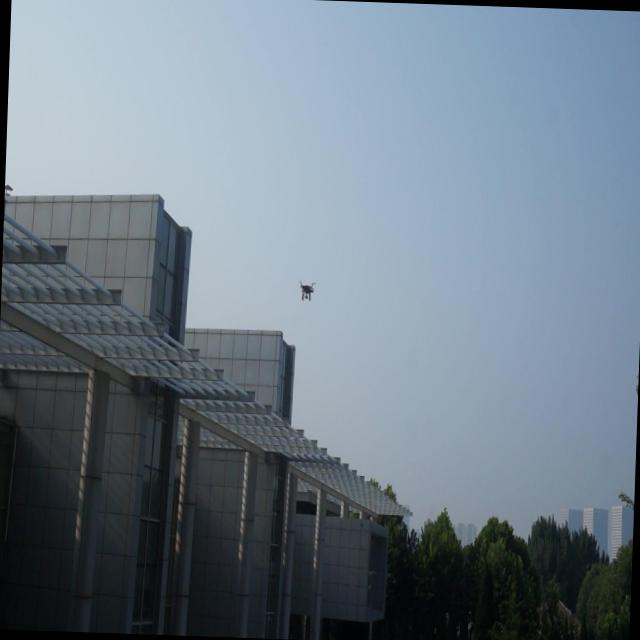drone: (297, 280, 317, 302)
